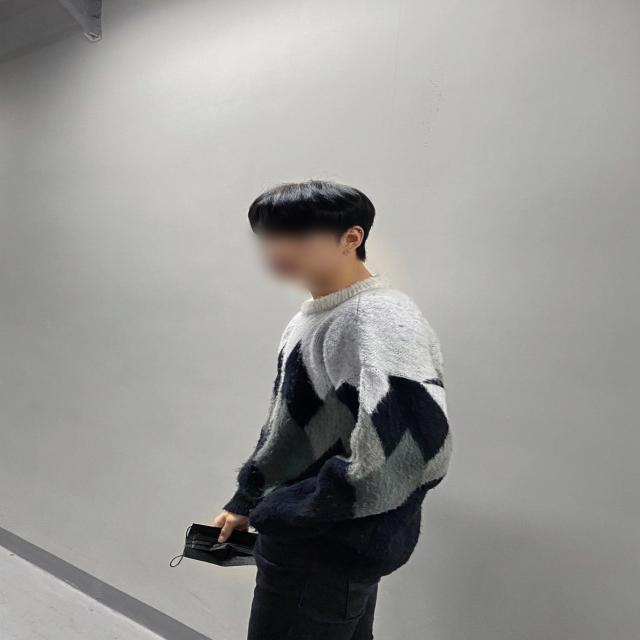denimpants: (248, 553, 378, 640)
sweater: (218, 277, 453, 540)
